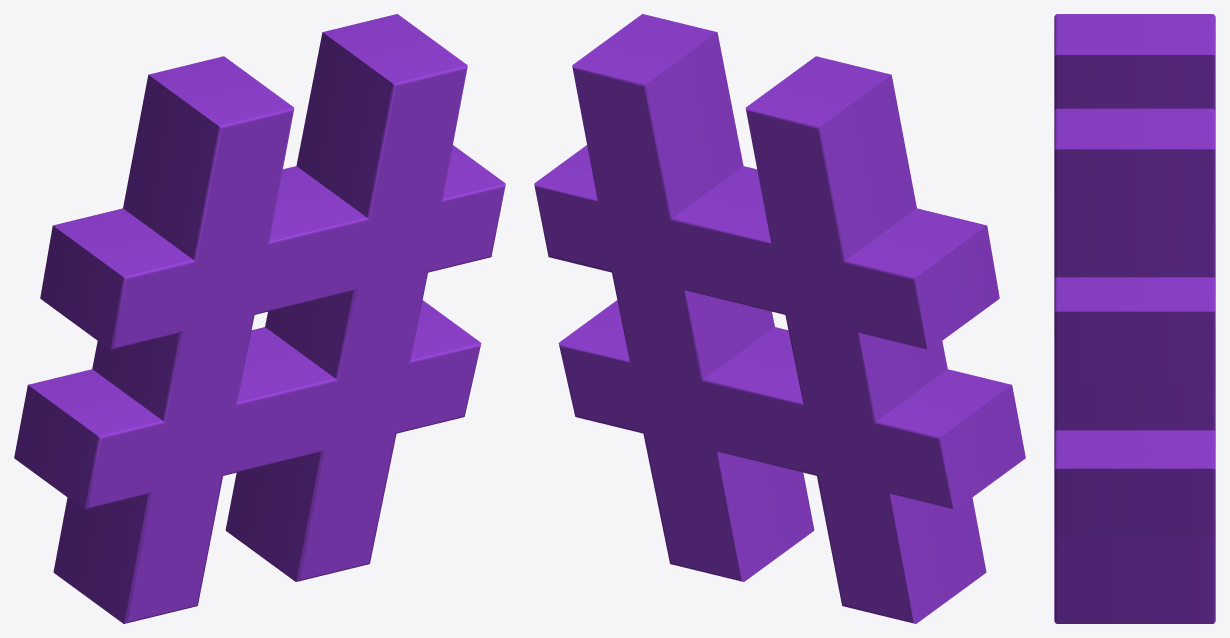
The model's file is hash.fbx.
The picture shows the model from 3 angles, left to right: view 1: azimuth 30°, elevation 25°; view 2: azimuth 150°, elevation 25°; view 3: azimuth 270°, elevation 25°; orthographic projection. The views are drawn at different scales.
Parts seen in each view (by area): view 1: hash; view 2: hash; view 3: hash.
Boxes of the visible parts, x1,y1,x2,y2 form: hash: (14,14,505,623); hash: (534,14,1025,623); hash: (1054,14,1215,623).
Size of the model in its own units: 163 by 175 by 48.62.
